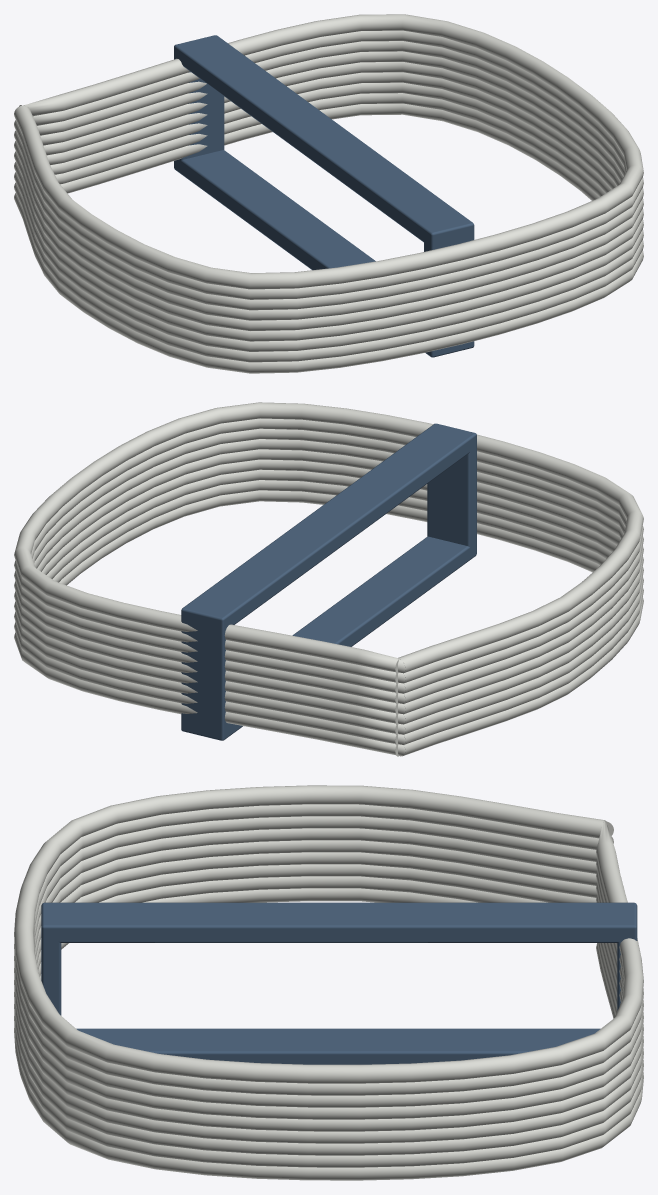
Rendered from spacecraft-parachute-packing-hall-spacecraft-parachute-81b0471c__32087.glb.
3 views of the same model, one above another, from view 1: azimuth 30°, elevation 25°; view 2: azimuth 150°, elevation 25°; view 3: azimuth 270°, elevation 25° (orthographic). The views are drawn at different scales.
Parts seen in each view (by area): view 1: spacecraft-parachute-packing-hall-suspension-line-hank; view 2: spacecraft-parachute-packing-hall-suspension-line-hank; view 3: spacecraft-parachute-packing-hall-suspension-line-hank.
Part boxes in pixels (x1,y1,x2,y2): spacecraft-parachute-packing-hall-suspension-line-hank: [14, 14, 643, 373]; spacecraft-parachute-packing-hall-suspension-line-hank: [14, 402, 643, 756]; spacecraft-parachute-packing-hall-suspension-line-hank: [14, 785, 643, 1180].
Size of the model in its own units: 0.4115 by 0.096 by 0.3807.
